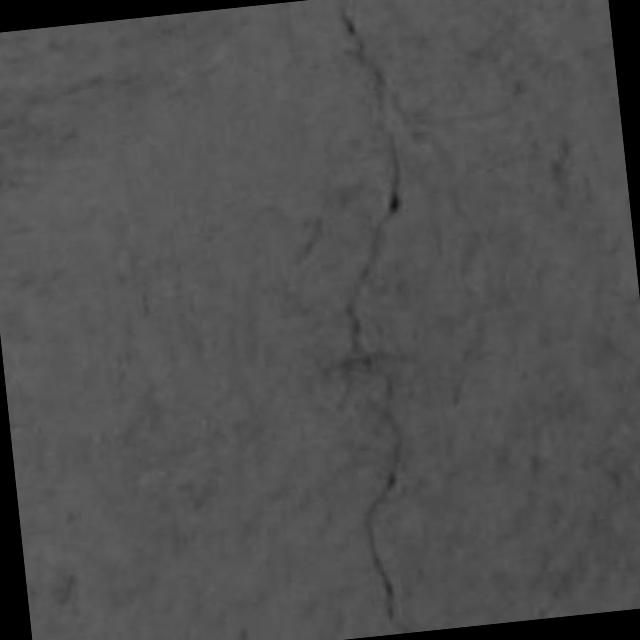crack: (338, 0, 411, 632), (365, 376, 411, 633)
